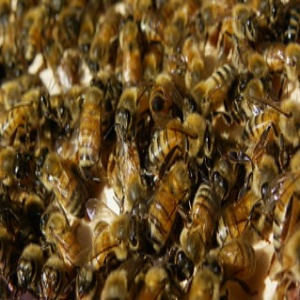bee: (79, 73, 103, 178), (1, 92, 49, 138), (151, 75, 174, 117), (18, 245, 39, 287)
